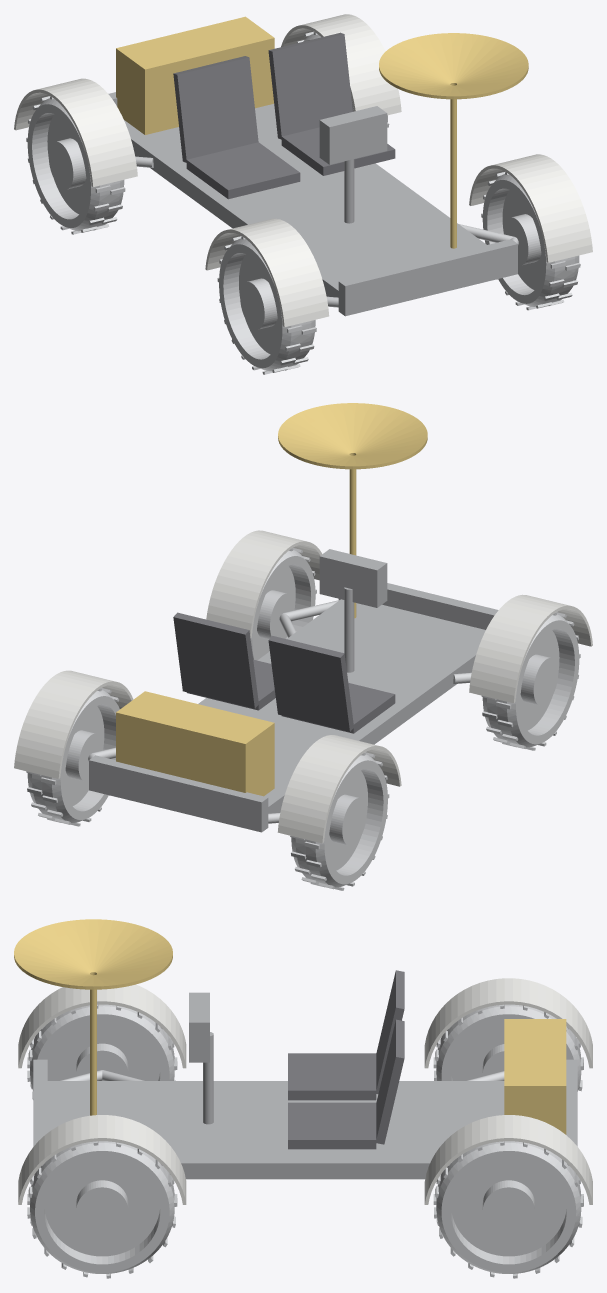
Rendered from rover02_lrv.glb.
The picture shows the model from 3 angles, top to bottom: view 1: azimuth 30°, elevation 25°; view 2: azimuth 150°, elevation 25°; view 3: azimuth 270°, elevation 25°; orthographic projection. The views are drawn at different scales.
Parts seen in each view (by area): view 1: chassis, fenders, seats, tool_pallet, hga_umbrella, wheel_4, wheel_3, wheel_1, console, suspension_arms; view 2: chassis, fenders, seats, tool_pallet, hga_umbrella, wheel_3, wheel_4, wheel_2, wheel_1, console, suspension_arms; view 3: chassis, fenders, wheel_1, wheel_2, seats, hga_umbrella, wheel_3, tool_pallet, wheel_4, console, suspension_arms.
Part boxes in pixels (x1,y1,x2,y2): chassis: [108, 92, 517, 316]; fenders: [14, 14, 592, 327]; seats: [173, 32, 395, 199]; tool_pallet: [116, 16, 274, 134]; hga_umbrella: [379, 33, 528, 248]; wheel_4: [26, 96, 125, 234]; wheel_3: [217, 236, 316, 374]; wheel_1: [481, 172, 580, 310]; console: [319, 106, 387, 223]; suspension_arms: [135, 156, 518, 307]; chassis: [89, 583, 498, 832]; fenders: [14, 530, 592, 843]; seats: [173, 612, 395, 733]; tool_pallet: [116, 691, 274, 796]; hga_umbrella: [278, 403, 427, 618]; wheel_3: [481, 612, 580, 750]; wheel_4: [290, 752, 389, 890]; wheel_2: [26, 688, 119, 826]; wheel_1: [250, 548, 316, 660]; console: [319, 549, 387, 672]; suspension_arms: [88, 600, 471, 823]; chassis: [33, 1059, 577, 1179]; fenders: [18, 978, 592, 1204]; wheel_1: [27, 1141, 177, 1278]; wheel_2: [433, 1141, 583, 1278]; seats: [288, 970, 404, 1149]; hga_umbrella: [14, 919, 172, 1115]; wheel_3: [27, 1004, 177, 1099]; tool_pallet: [504, 1019, 566, 1134]; wheel_4: [433, 1004, 583, 1091]; console: [189, 992, 213, 1124]; suspension_arms: [60, 1070, 504, 1080].
Size of the model in its own units: 2.14 by 1.72 by 3.28.
